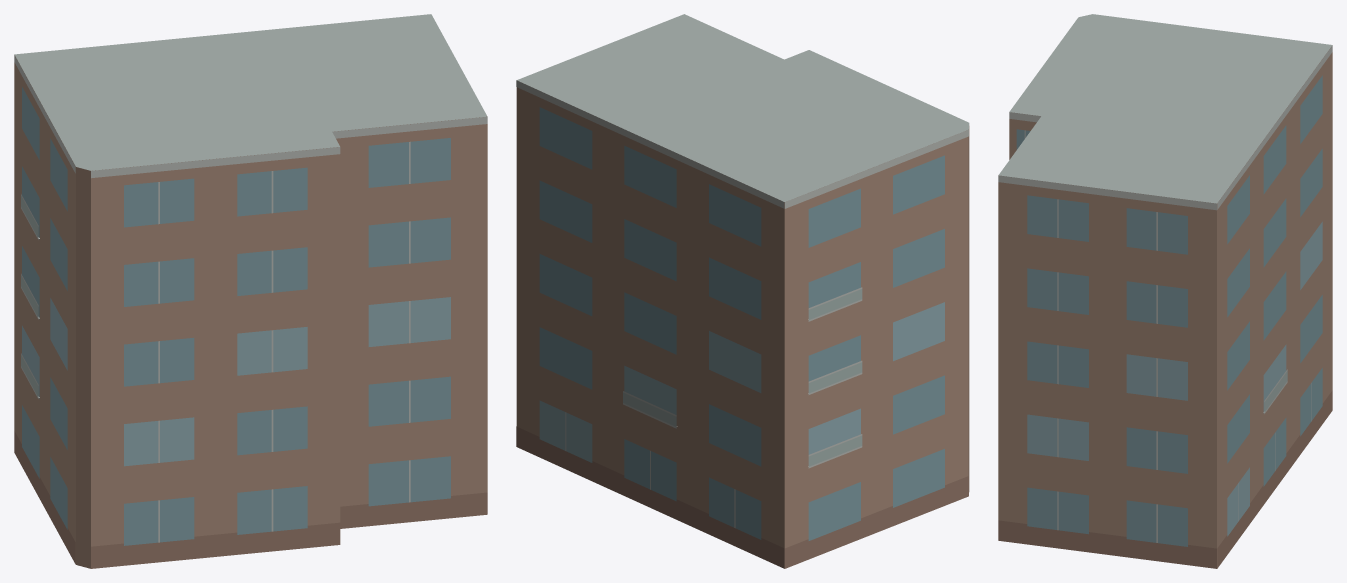
The model's file is survey-upis-32971992.glb.
3 renders of one model, left to right at view 1: azimuth 30°, elevation 25°; view 2: azimuth 150°, elevation 25°; view 3: azimuth 270°, elevation 25°, orthographic. The views are drawn at different scales.
Visible parts, largest first — view 1: survey-upis-32971992.tmp; view 2: survey-upis-32971992.tmp; view 3: survey-upis-32971992.tmp.
Part boxes in pixels (<box>): survey-upis-32971992.tmp: <box>14,14,487,568</box>; survey-upis-32971992.tmp: <box>516,14,969,568</box>; survey-upis-32971992.tmp: <box>998,14,1332,568</box>.
Size of the model in its own units: 14.7 by 13.2 by 10.96.
